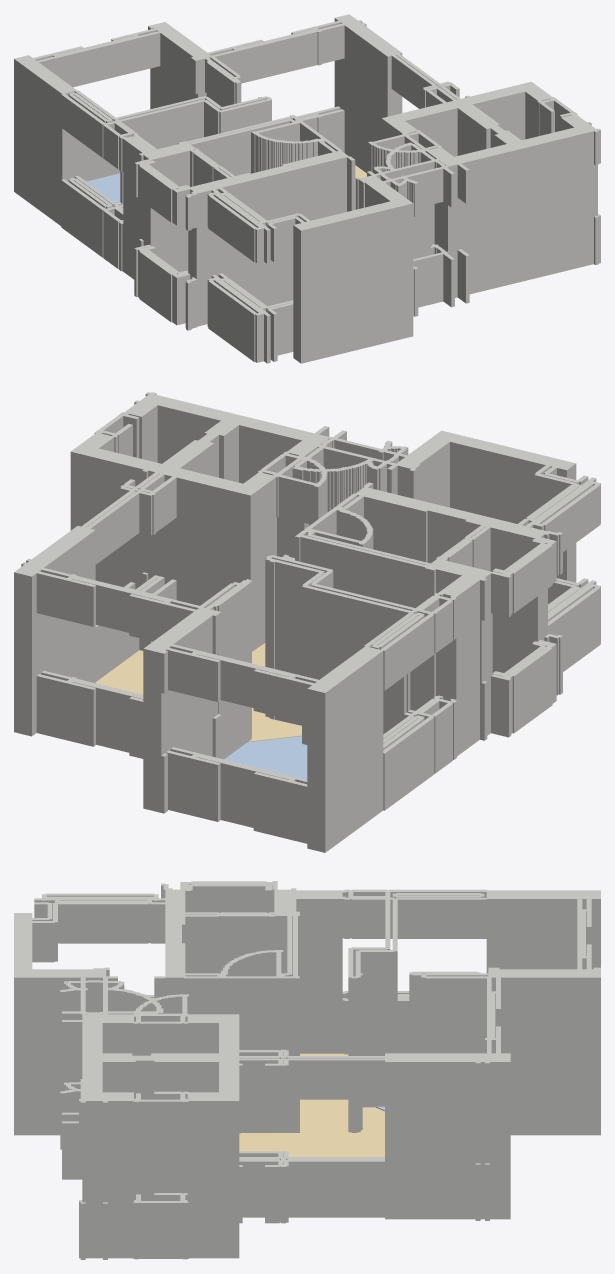
The picture shows the model from 3 angles, top to bottom: view 1: azimuth 30°, elevation 25°; view 2: azimuth 150°, elevation 25°; view 3: azimuth 270°, elevation 25°; orthographic projection. The views are drawn at different scales.
Visible parts, largest first — view 1: walls, room:bedroom:6; view 2: walls, room:living:1, room:bedroom:6; view 3: walls, room:living:1.
Boxes of the visible parts, left/top/right/bottom form: walls: left=14, top=14, right=600, bottom=363; room:bedroom:6: left=86, top=173, right=120, bottom=202; walls: left=14, top=392, right=600, bottom=852; room:living:1: left=95, top=643, right=301, bottom=742; room:bedroom:6: left=224, top=736, right=307, bottom=779; walls: left=14, top=881, right=600, bottom=1259; room:living:1: left=239, top=1053, right=384, bottom=1156.
Size of the model in its own units: 8.45 by 2.8 by 9.46.
